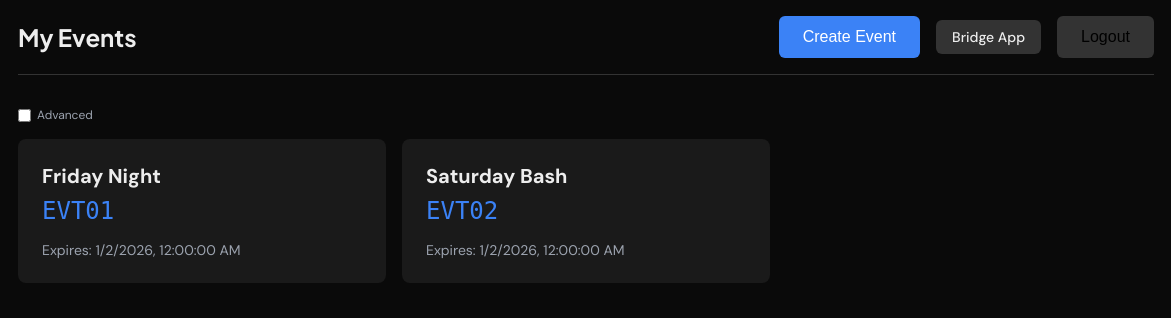
Scenario: EventsPage › Batch delete (selection mode) › selects individual events
Check: the heading "Friday Night" is shown, box [42,163,161,189]
Click the checkbox labelled "Advanced": (24,115) [18,108,31,122]
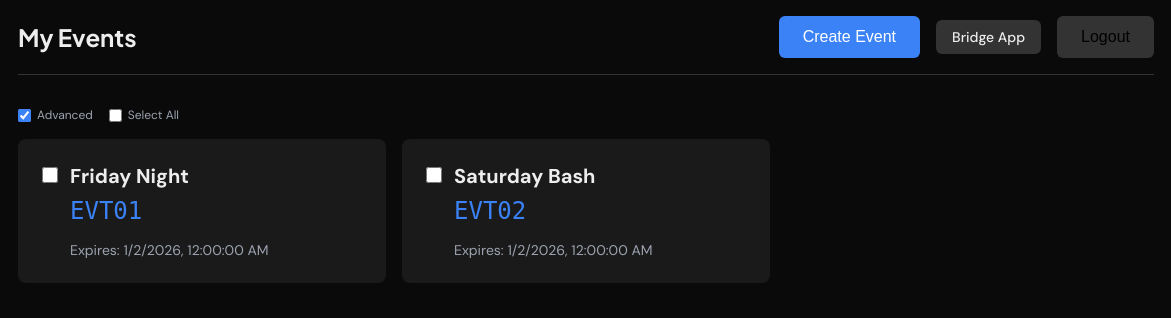
Check: the number of checkboxes named "Select event" is 2
Click the checkbox named "Select event": (50,175) [42,167,58,183]
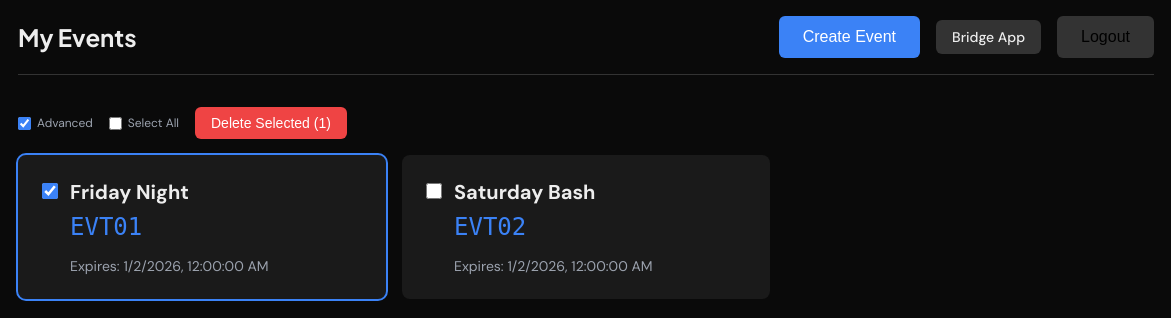
Check: the button "Delete Selected (1)" is shown, box [195,107,347,139]
Click the checkbox named "Select event": (434,191) [426,183,442,199]
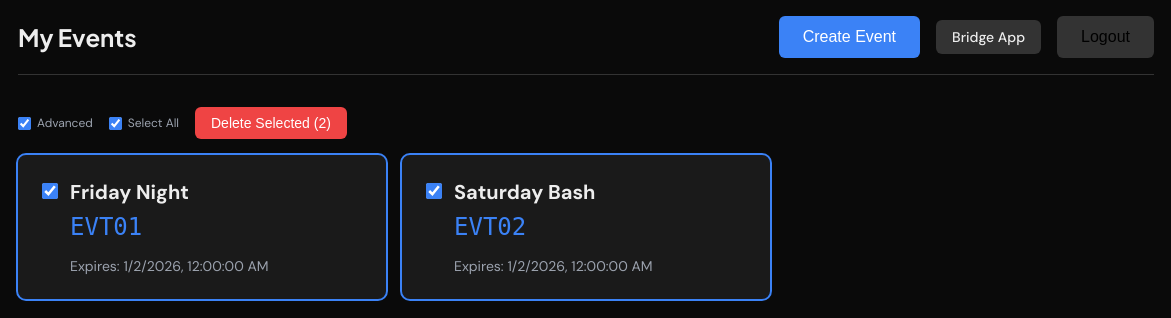
Check: the button "Delete Selected (2)" is shown, box [195,107,347,139]
Deselect one
Click the checkbox named "Select event": (50,191) [42,183,58,199]
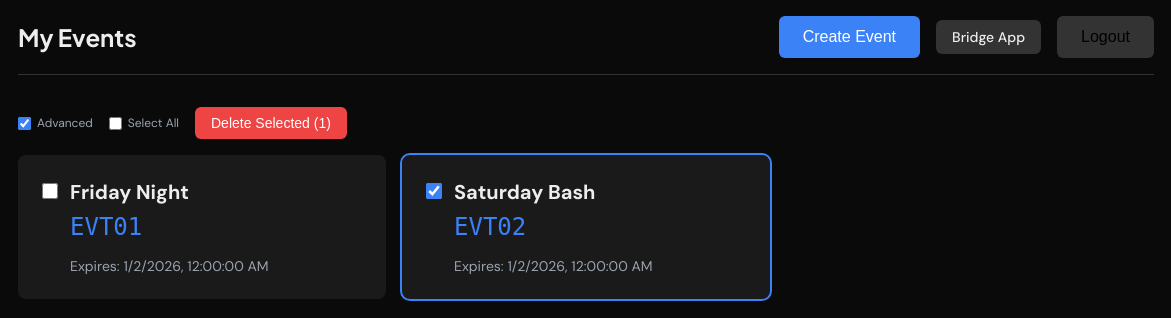
Check: the button "Delete Selected (1)" is shown, box [195,107,347,139]
